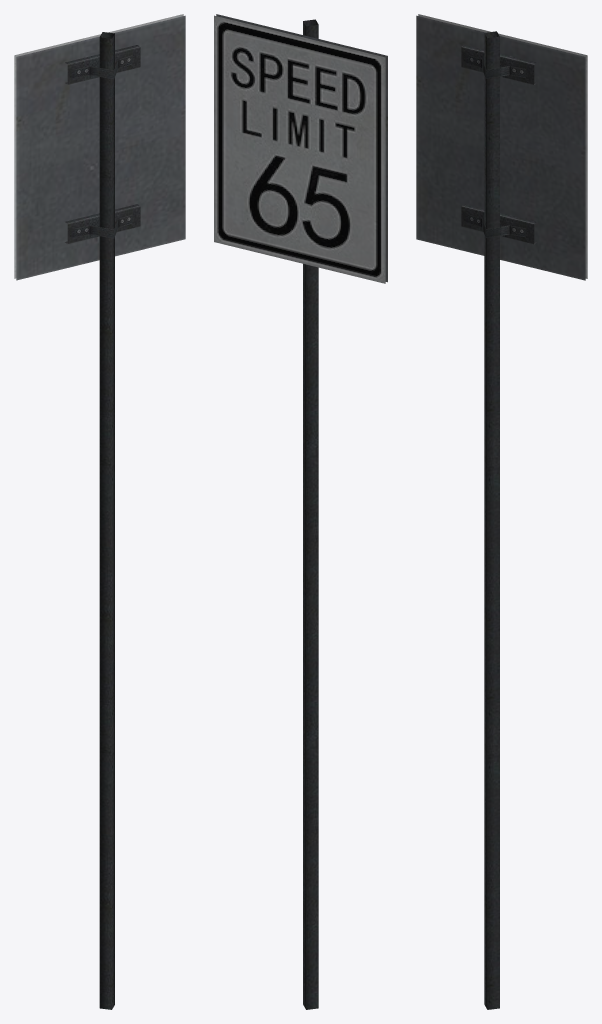
The model's file is Speed_Limit_-_65_mph.glb.
The picture shows the model from 3 angles, left to right: view 1: azimuth 30°, elevation 25°; view 2: azimuth 150°, elevation 25°; view 3: azimuth 330°, elevation 25°; orthographic projection.
Visible parts, largest first — view 1: Speed_Limit_65mph__LOD1; view 2: Speed_Limit_65mph__LOD1; view 3: Speed_Limit_65mph__LOD1.
Boxes of the visible parts, x1,y1,x2,y2 form: Speed_Limit_65mph__LOD1: (14, 14, 185, 1009); Speed_Limit_65mph__LOD1: (214, 14, 387, 1009); Speed_Limit_65mph__LOD1: (416, 14, 587, 1009).
Size of the model in its own units: 0.546 by 2.99 by 0.0909.
1 material, 1 textured.
